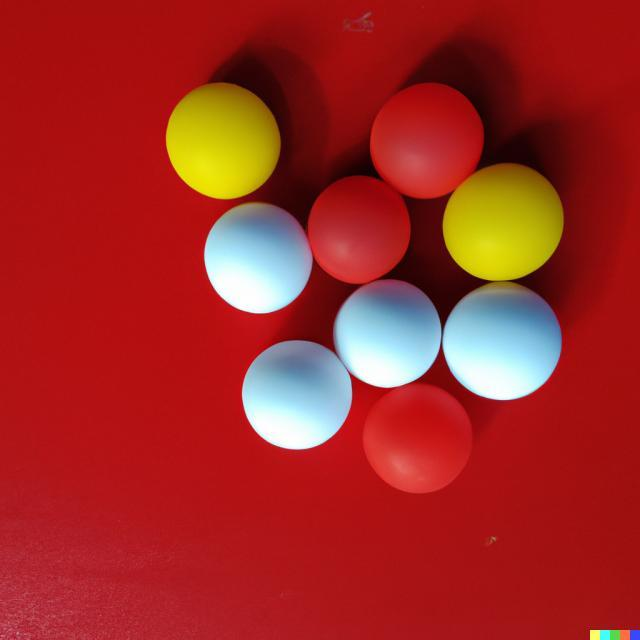white: (442, 281, 564, 404), (242, 339, 354, 452), (334, 278, 444, 390), (204, 202, 314, 313)
